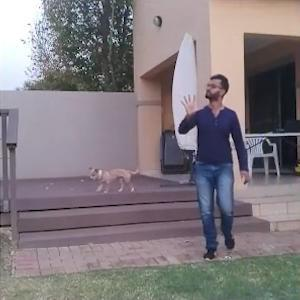follow_hand: (176, 89, 204, 119)
